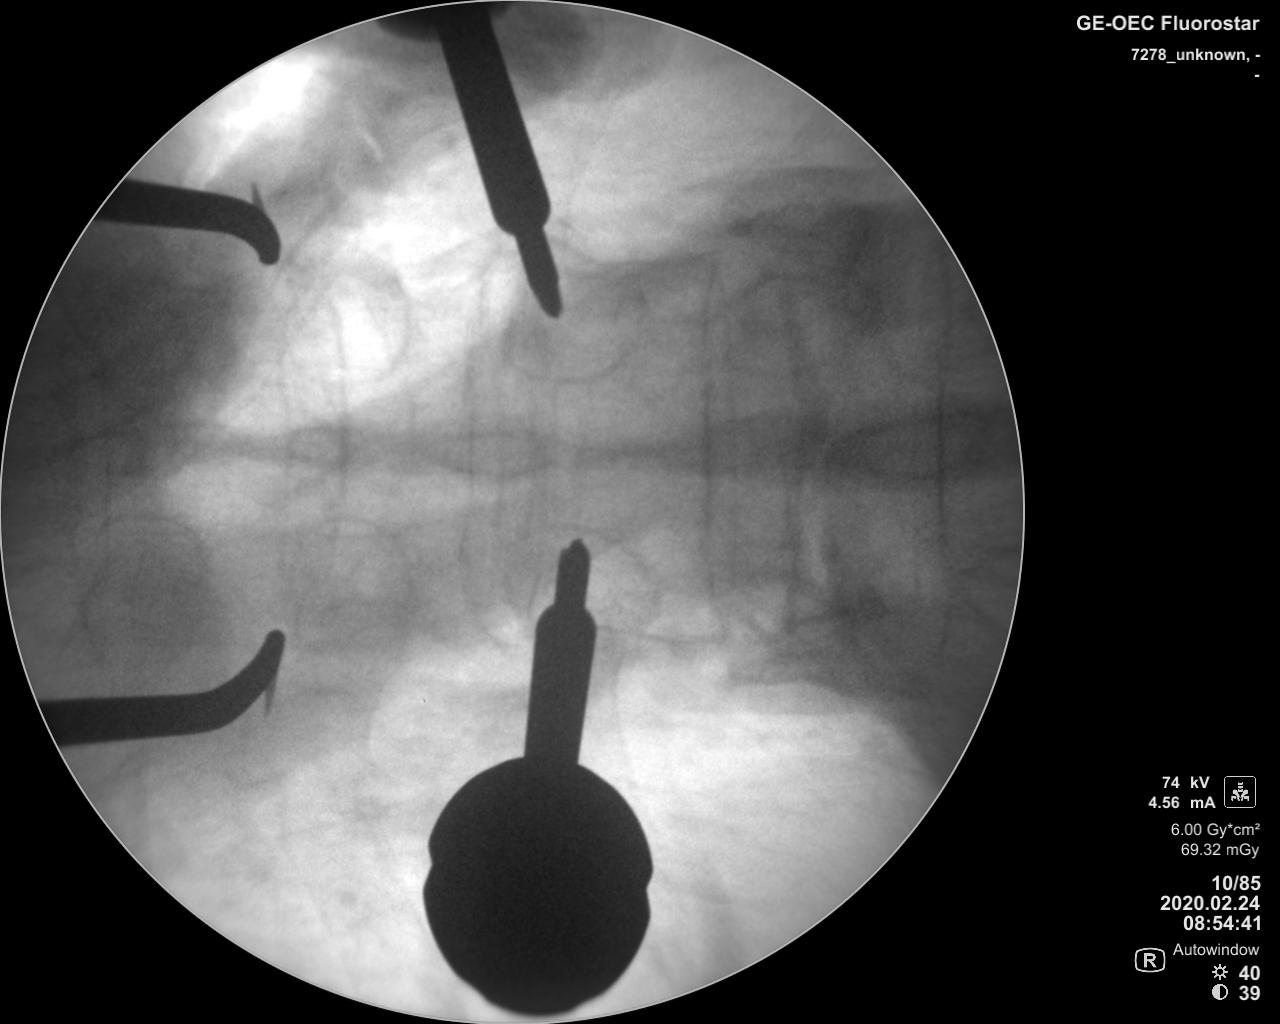eyes: (503, 272, 647, 385), (280, 522, 421, 628), (284, 273, 416, 379)
line: (269, 266, 354, 622), (693, 233, 744, 654), (451, 248, 493, 641)
nose: (611, 419, 818, 492), (825, 413, 985, 485), (217, 419, 358, 478), (422, 425, 562, 483)
